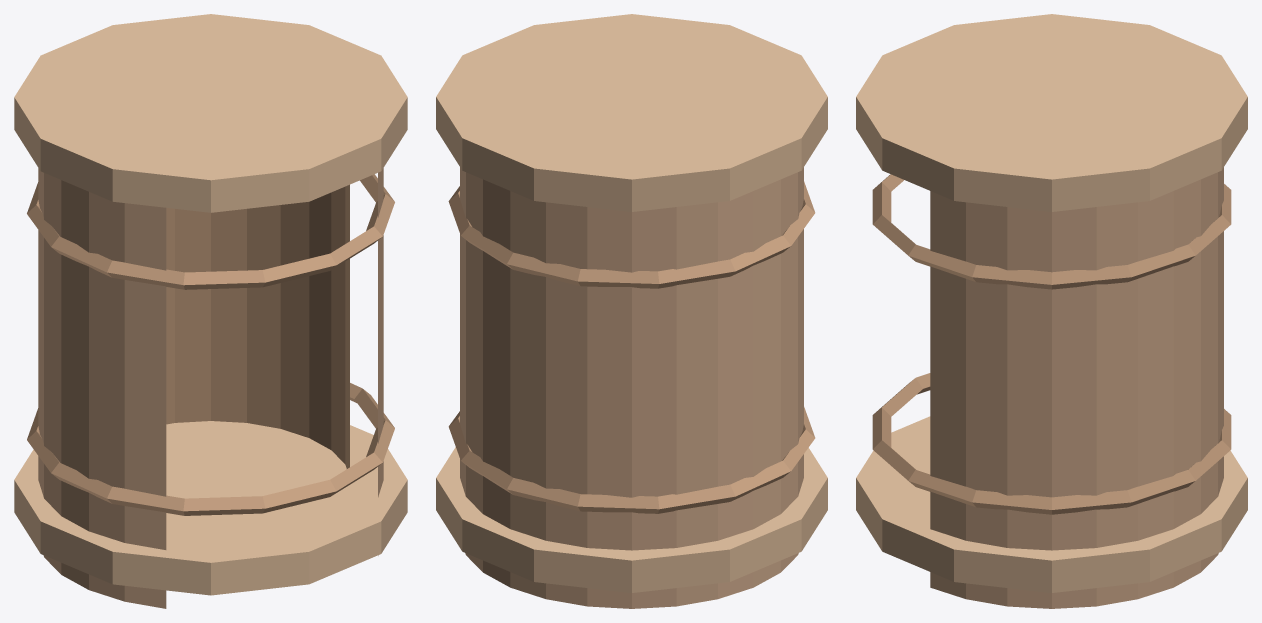
The model's file is tubo_piedra.glb.
3 renders of one model, left to right at view 1: azimuth 30°, elevation 25°; view 2: azimuth 150°, elevation 25°; view 3: azimuth 270°, elevation 25°, orthographic.
Visible parts, largest first — view 1: tubo_piedra; view 2: tubo_piedra; view 3: tubo_piedra.
Boxes of the visible parts, left/top/right/bottom form: tubo_piedra: left=14, top=14, right=407, bottom=608; tubo_piedra: left=436, top=14, right=827, bottom=608; tubo_piedra: left=856, top=14, right=1247, bottom=608.
Size of the model in its own units: 0.82 by 1.01 by 0.82.
